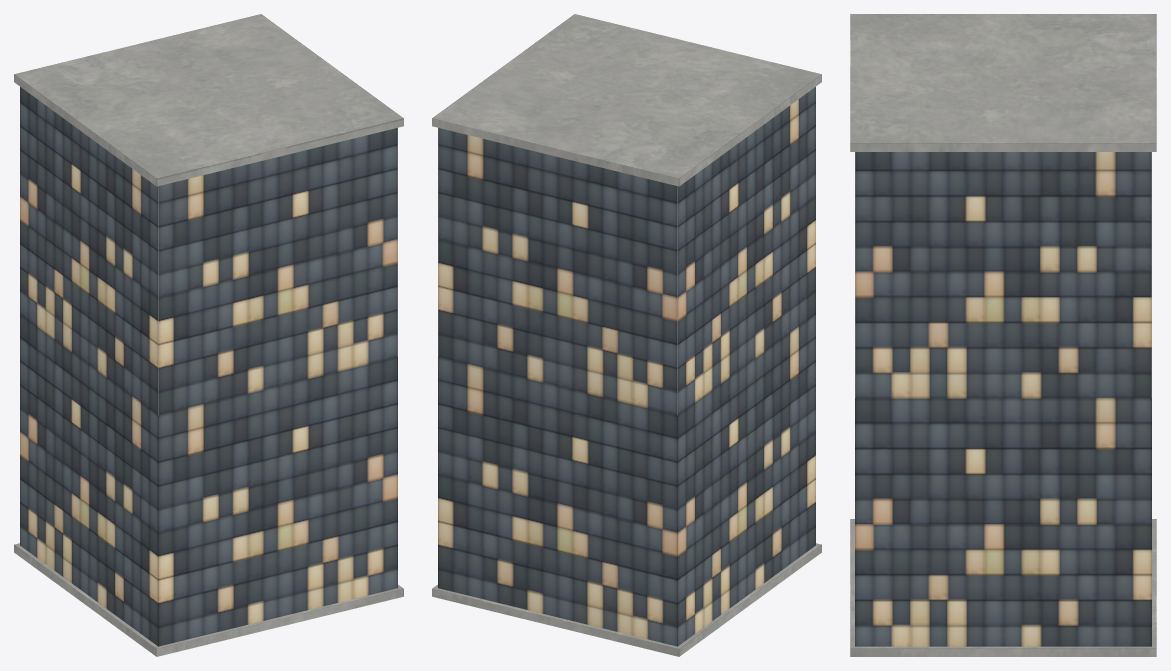
The model's file is building_05.2.glb.
3 renders of one model, left to right at view 1: azimuth 30°, elevation 25°; view 2: azimuth 150°, elevation 25°; view 3: azimuth 270°, elevation 25°, orthographic. The views are drawn at different scales.
Parts seen in each view (by area): view 1: building_05.2; view 2: building_05.2; view 3: building_05.2.
Part boxes in pixels (x1,y1,x2,y2): building_05.2: (14, 14, 403, 656); building_05.2: (432, 14, 821, 656); building_05.2: (850, 14, 1156, 656).
Size of the model in its own units: 33 by 61 by 33.
1 material, 1 textured.
